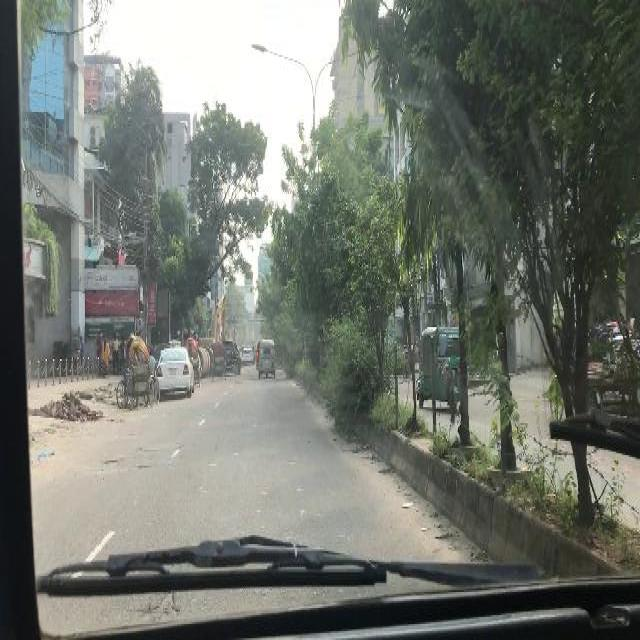vehicle: (418, 329, 460, 413), (128, 342, 160, 408), (157, 347, 194, 398), (117, 337, 134, 412), (211, 341, 227, 380), (189, 339, 202, 385), (258, 343, 276, 375), (227, 342, 242, 376), (242, 348, 254, 362)
